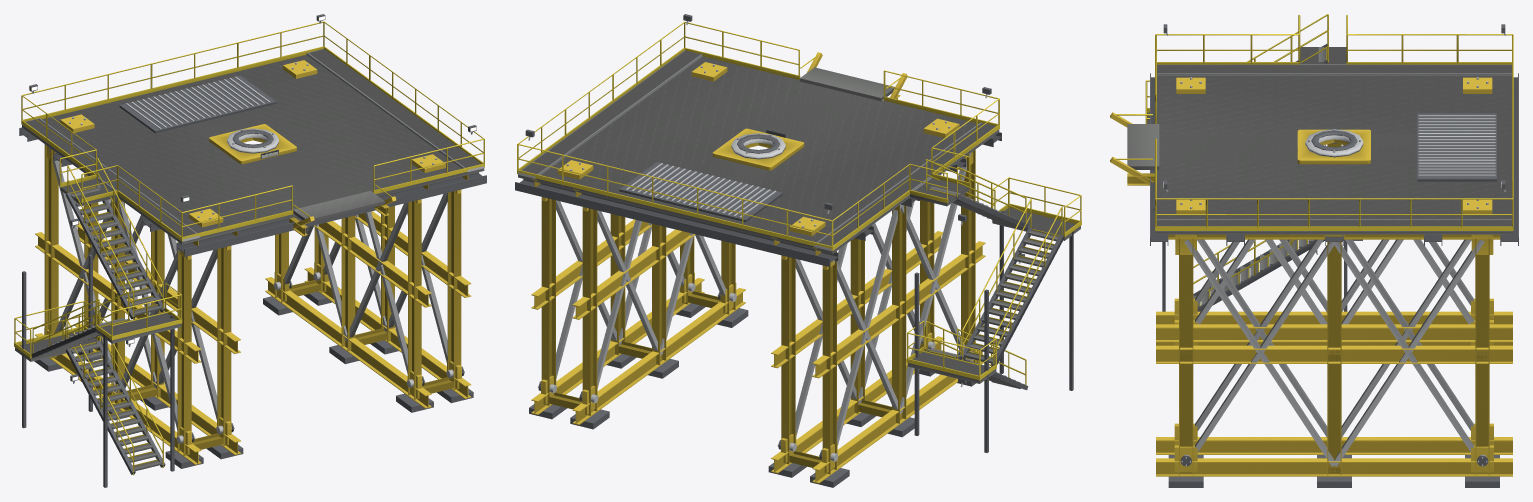
File: substructure_drill_floor_A_lodM.glb
3 renders of one model, left to right at view 1: azimuth 30°, elevation 25°; view 2: azimuth 150°, elevation 25°; view 3: azimuth 270°, elevation 25°, orthographic. The views are drawn at different scales.
Parts seen in each view (by area): view 1: box_on_box_frames_oxide, drill_floor_deck, box_on_box_frames_ivory, handrails_yellow, perimeter_grating_deck, setback_dark, floor_support_beams_dark, box_on_box_frames_dark, flight_1_deck, stairs_dark, flight_1_yellow, flight_3_deck (+14 smaller); view 2: box_on_box_frames_oxide, drill_floor_deck, box_on_box_frames_ivory, handrails_yellow, floor_support_beams_dark, perimeter_grating_deck, setback_dark, flight_2_deck, box_on_box_frames_dark, flight_2_yellow, stairs_dark, setback_steel (+12 smaller); view 3: drill_floor_deck, box_on_box_frames_oxide, box_on_box_frames_ivory, handrails_yellow, perimeter_grating_deck, setback_dark, setback_steel, perimeter_grating_steel, hinges_pins_and_gussets_oxide, floor_support_beams_dark, derrick_mounts_oxide, rotary_table_oxide (+11 smaller).
Boxes of the visible parts, <box> form: box_on_box_frames_oxide: <box>35,144,471,464</box>; drill_floor_deck: <box>22,55,484,244</box>; box_on_box_frames_ivory: <box>49,147,447,429</box>; handrails_yellow: <box>21,21,484,241</box>; perimeter_grating_deck: <box>26,49,479,236</box>; setback_dark: <box>119,75,276,133</box>; floor_support_beams_dark: <box>19,127,486,256</box>; box_on_box_frames_dark: <box>34,291,473,468</box>; flight_1_deck: <box>15,330,162,470</box>; stairs_dark: <box>22,255,174,487</box>; flight_1_yellow: <box>14,301,163,475</box>; flight_3_deck: <box>71,187,162,315</box>; box_on_box_frames_oxide: <box>531,149,985,483</box>; drill_floor_deck: <box>518,56,999,254</box>; box_on_box_frames_ivory: <box>556,153,971,445</box>; handrails_yellow: <box>517,21,999,250</box>; floor_support_beams_dark: <box>515,132,1001,266</box>; perimeter_grating_deck: <box>522,51,994,245</box>; setback_dark: <box>619,162,782,222</box>; flight_2_deck: <box>963,208,1080,363</box>; box_on_box_frames_dark: <box>529,303,975,487</box>; flight_2_yellow: <box>962,177,1081,365</box>; stairs_dark: <box>914,210,1073,452</box>; setback_steel: <box>625,163,776,217</box>; drill_floor_deck: <box>1156,76,1512,234</box>; box_on_box_frames_oxide: <box>1156,143,1512,476</box>; box_on_box_frames_ivory: <box>1184,239,1484,466</box>; handrails_yellow: <box>1155,34,1513,230</box>; perimeter_grating_deck: <box>1157,65,1511,226</box>; setback_dark: <box>1417,113,1496,181</box>; setback_steel: <box>1418,115,1495,176</box>; perimeter_grating_steel: <box>1156,64,1512,231</box>; hinges_pins_and_gussets_oxide: <box>1174,239,1493,472</box>; floor_support_beams_dark: <box>1150,73,1518,245</box>; derrick_mounts_oxide: <box>1176,77,1492,213</box>; rotary_table_oxide: <box>1297,129,1370,164</box>.
Size of the model in its own units: 15.26 by 10.54 by 12.83.
7 materials, 7 textured.
